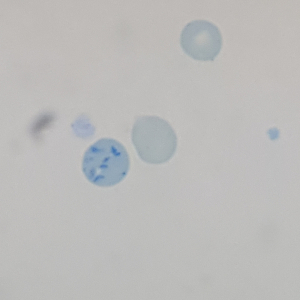aggregate reticulocyte: (80, 136, 132, 189)
erythrocyte: (129, 114, 180, 166), (178, 18, 225, 63)
